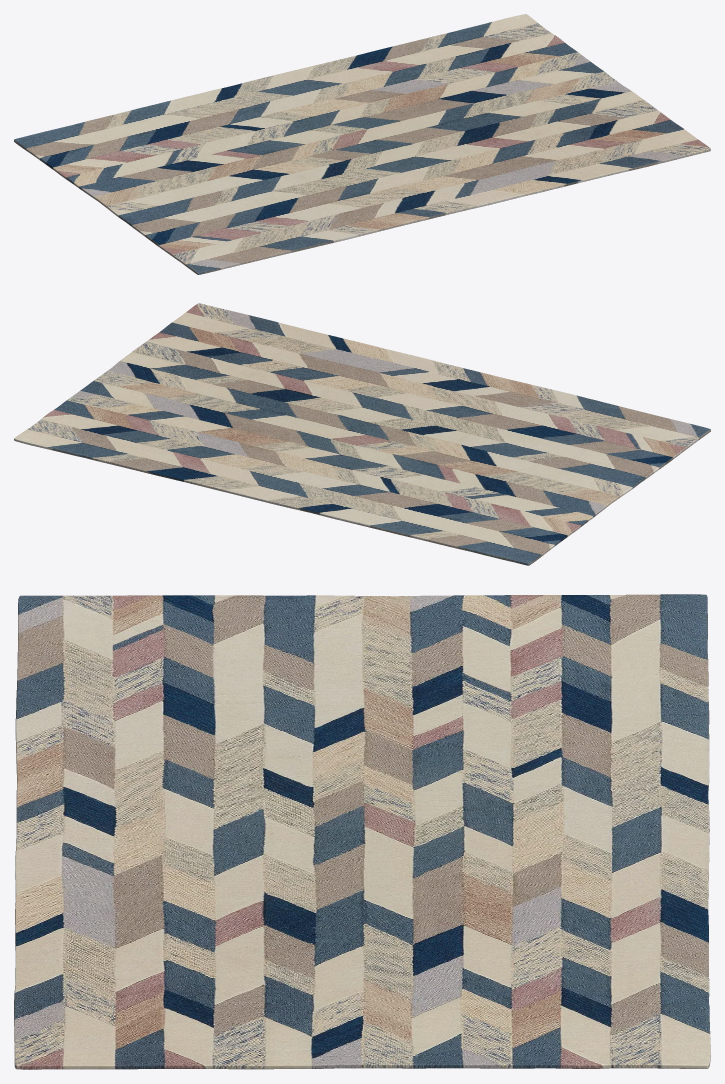
The model's file is abo-B07B51QM99.glb.
3 views of the same model, one above another, from view 1: azimuth 30°, elevation 25°; view 2: azimuth 150°, elevation 25°; view 3: azimuth 270°, elevation 25° (orthographic). The views are drawn at different scales.
Size of the model in its own units: 2.42 by 0.0101 by 1.51.
1 material, 1 textured.
